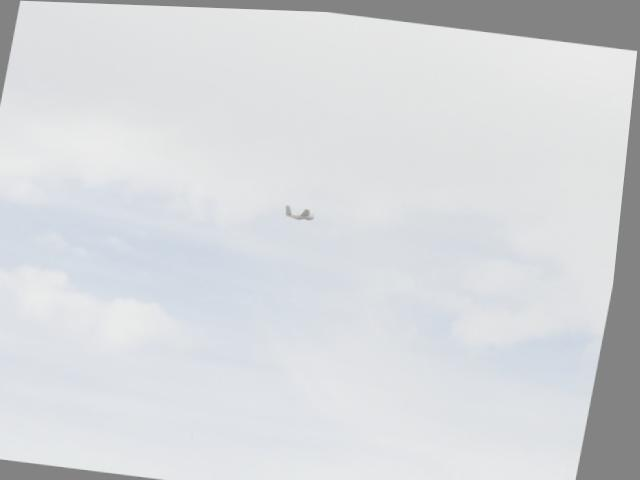plane: (288, 201, 320, 221)
